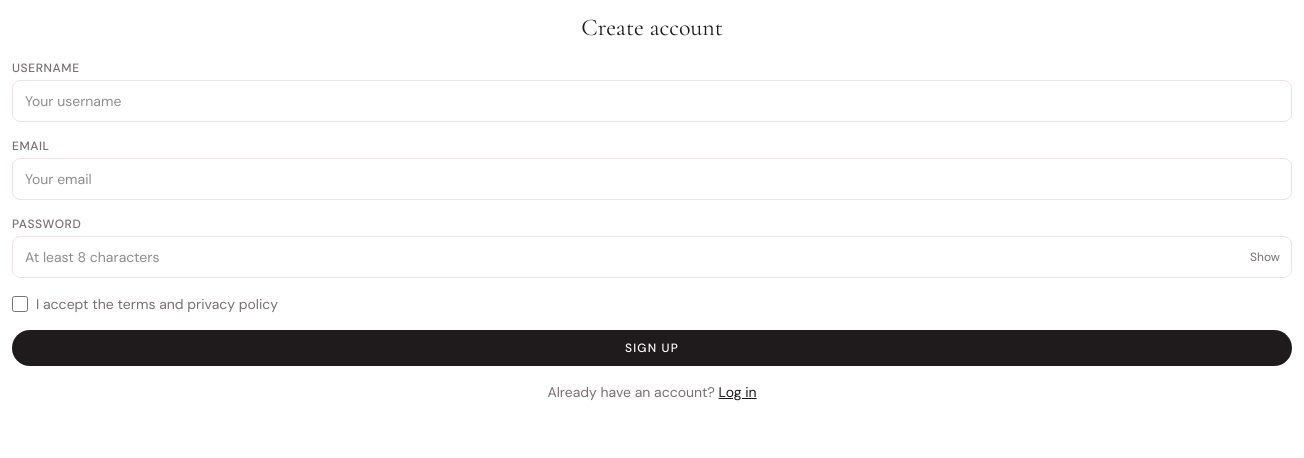
Test case: RegisterView › rejects a malformed email and a short password
This screenshot has width=1304, height=458.
Type "mina" into the field with id "username" at (652, 101), box [12,80,1292,122]
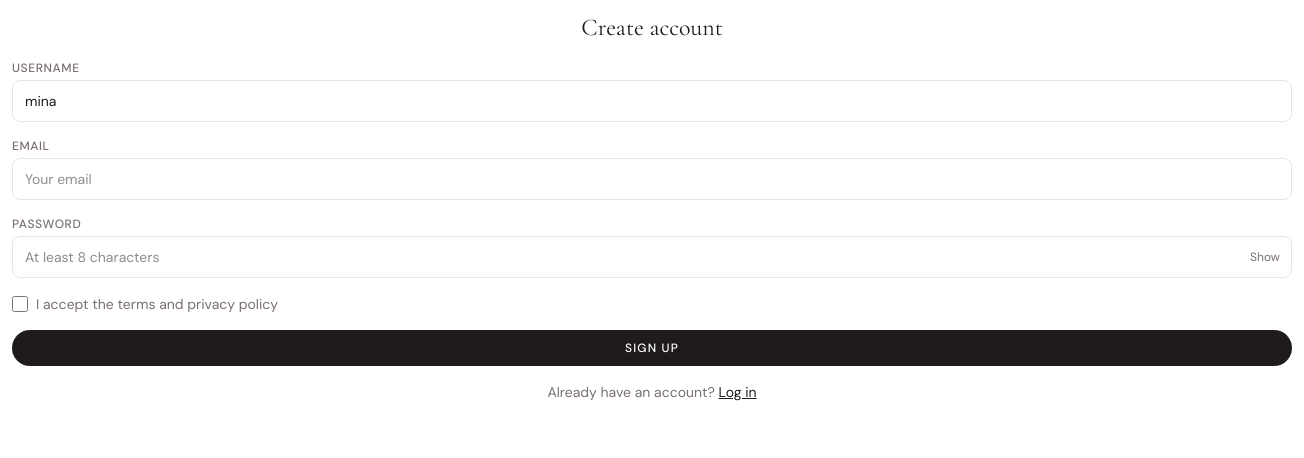
Type "not-an-email" into the field with id "email" at (652, 179), box [12,158,1292,200]
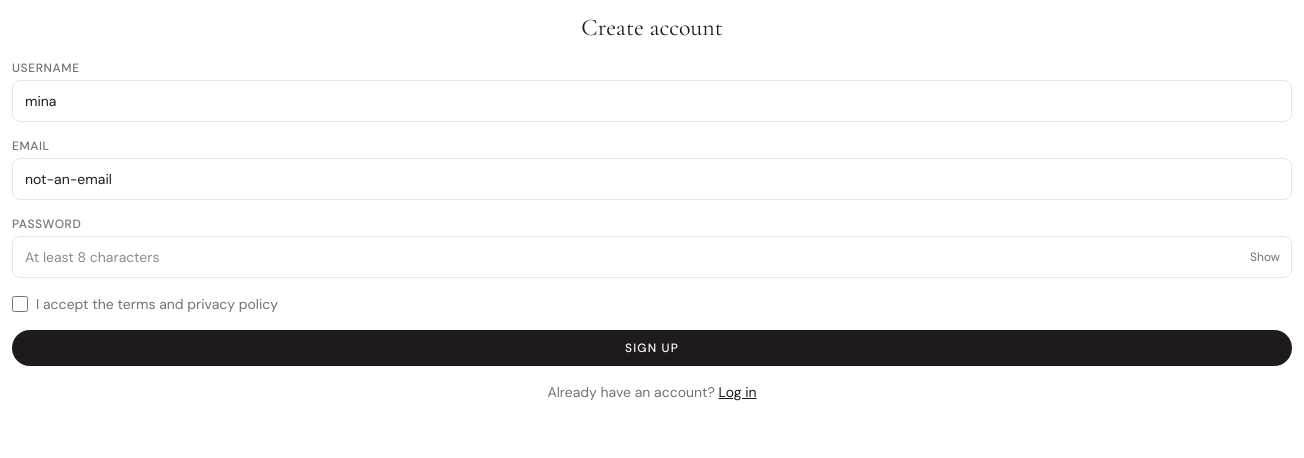
Type "short" into the password field labelled "Password" at (652, 257), box [12,236,1292,278]
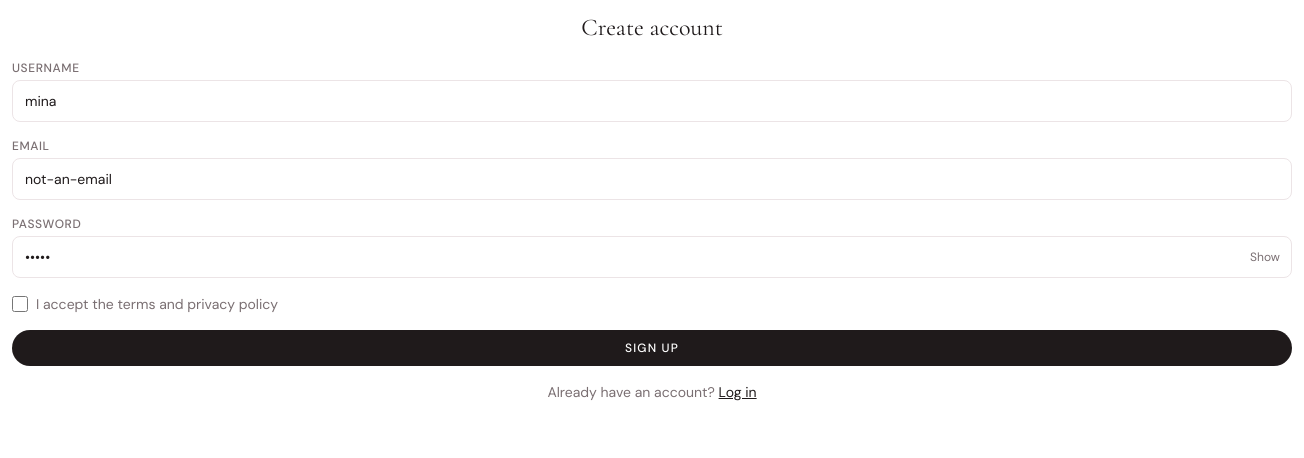
Click the checkbox labelled "I accept the terms and privacy policy" at (20, 304), box [12,296,28,312]
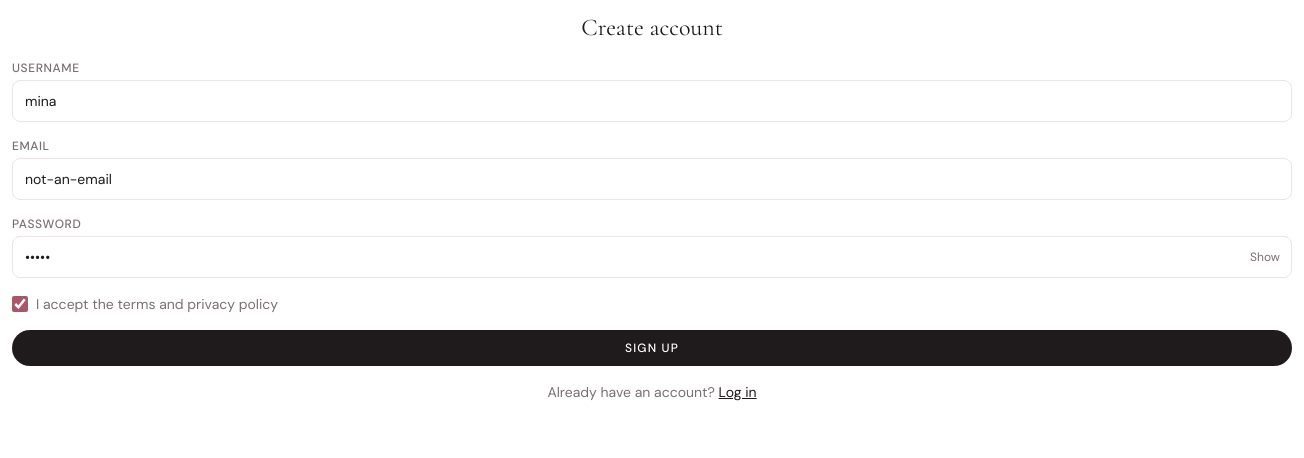
Submit the form
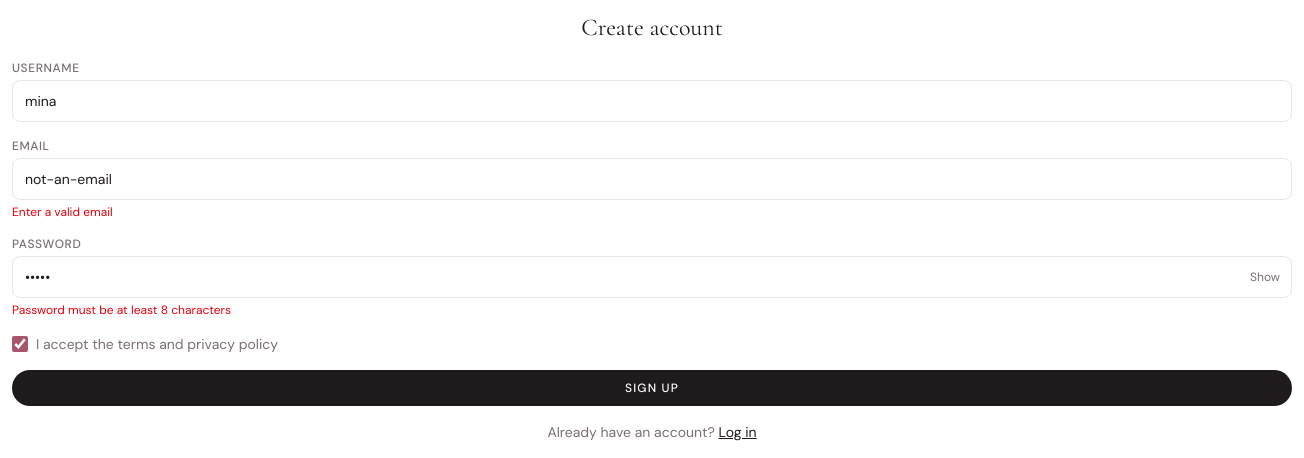
expect the form shows "Enter a valid email": met, box [12,204,113,220]
expect the form shows "at least 8 characters": met, box [12,302,231,318]
